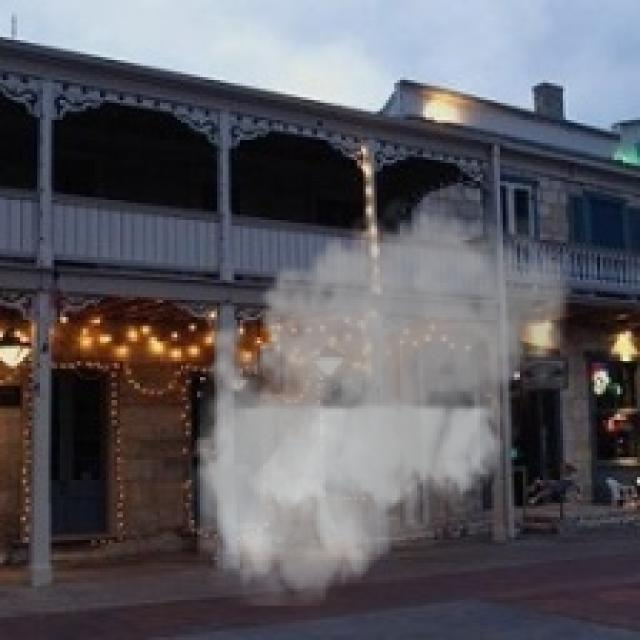Smoke: (182, 185, 578, 606)
